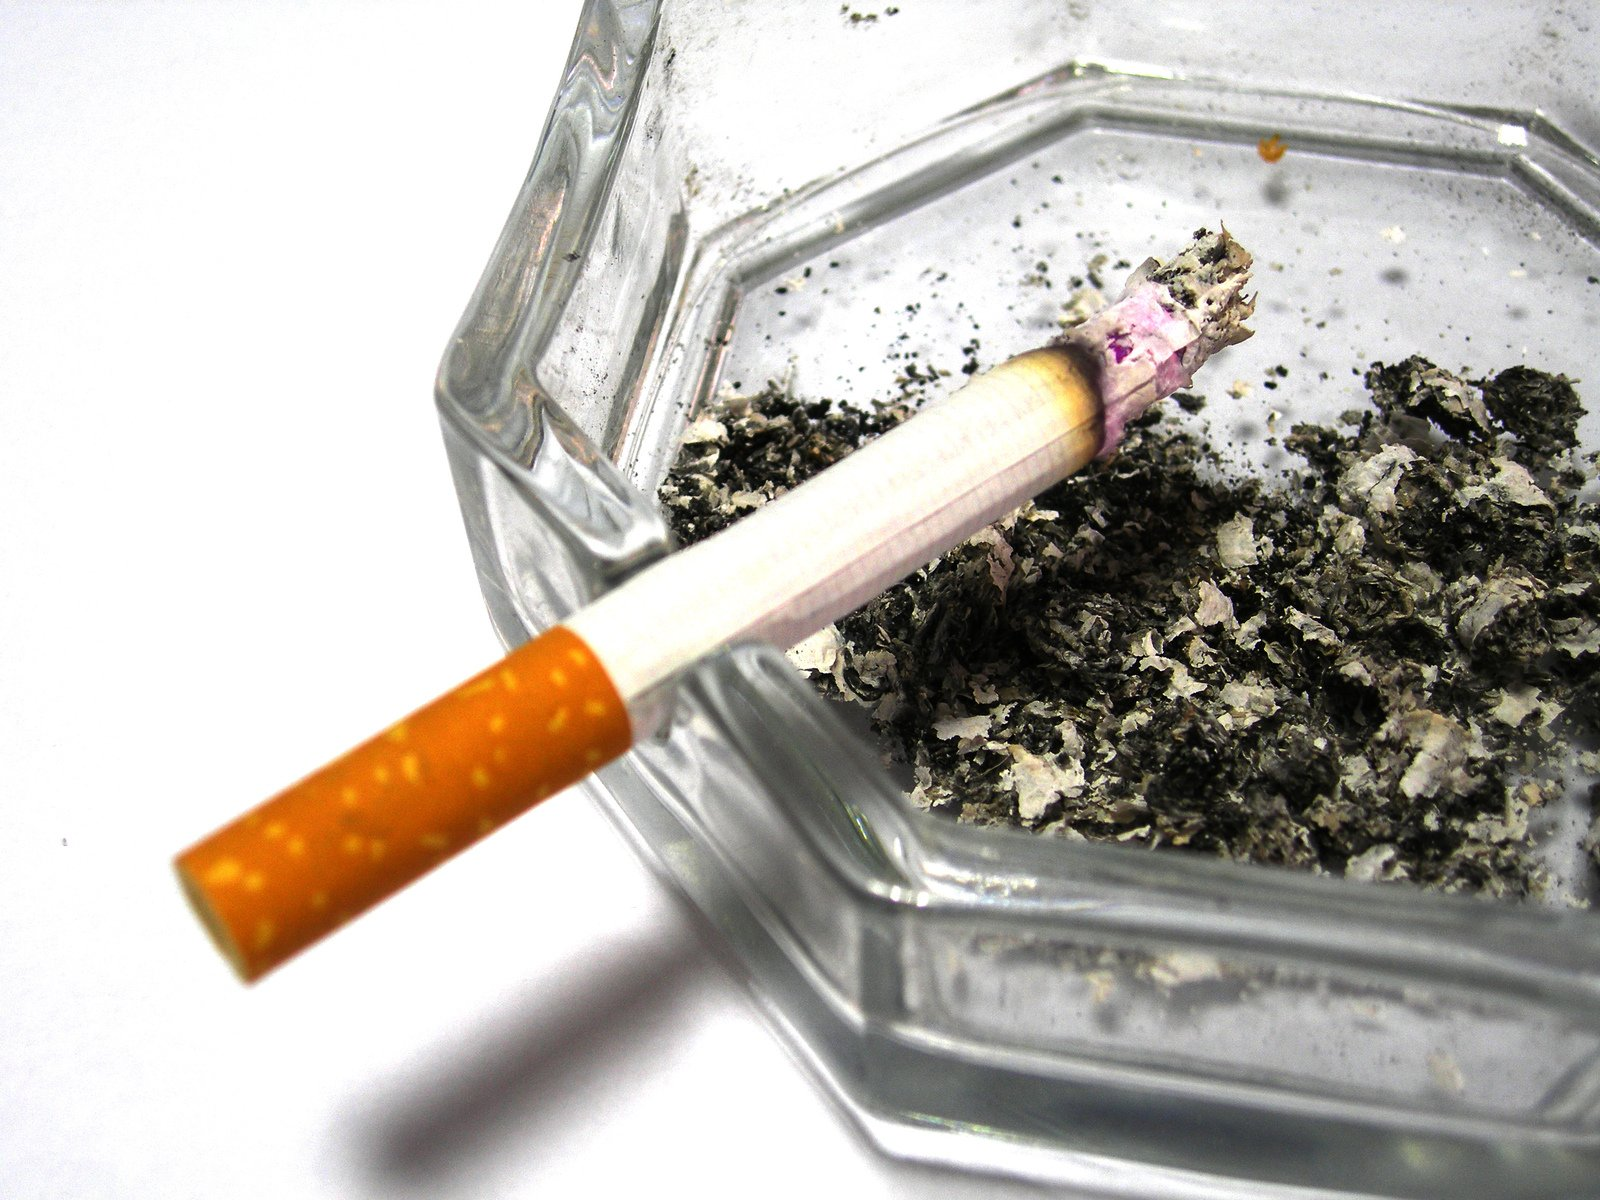cigarette: (149, 218, 1264, 1000)
